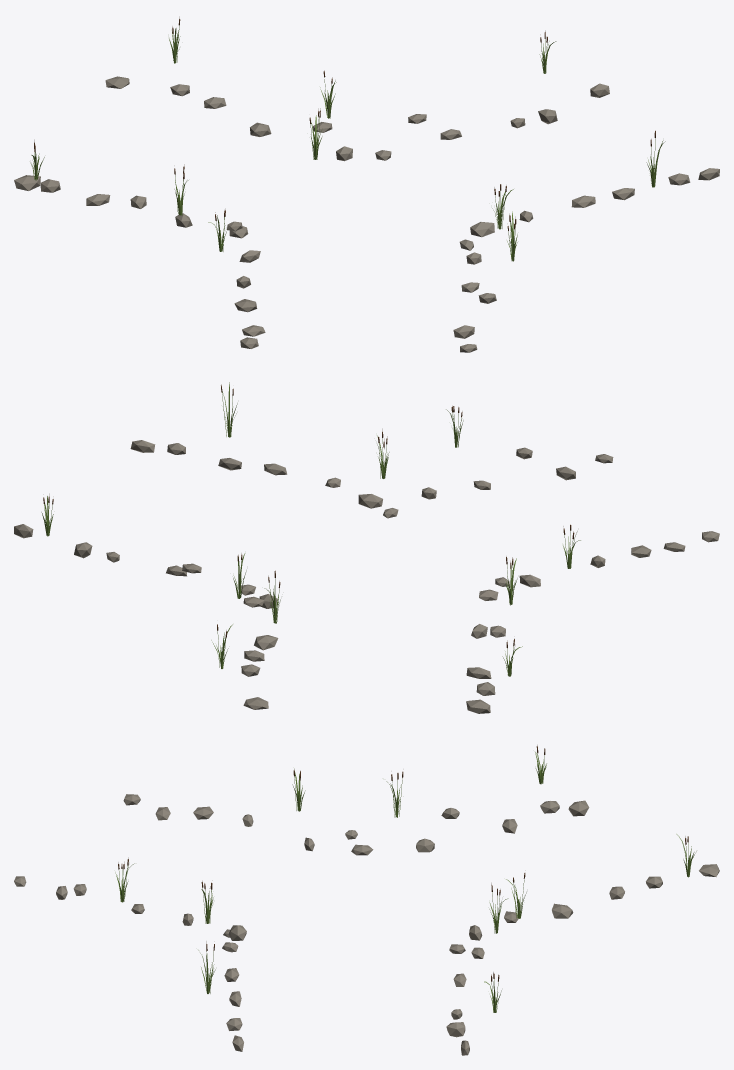
Rendered from river_fork_center.glb.
The picture shows the model from 3 angles, top to bottom: view 1: azimuth 30°, elevation 25°; view 2: azimuth 150°, elevation 25°; view 3: azimuth 270°, elevation 25°; orthographic projection.
Visible parts, largest first — view 1: river_fork_center_lod0; view 2: river_fork_center_lod0; view 3: river_fork_center_lod0.
Boxes of the visible parts, left/top/right/bottom form: river_fork_center_lod0: left=14, top=16, right=719, bottom=352; river_fork_center_lod0: left=14, top=382, right=719, bottom=713; river_fork_center_lod0: left=14, top=744, right=719, bottom=1055.
Size of what is drawn, in the model's own units: 22.23 by 3.53 by 25.28.
